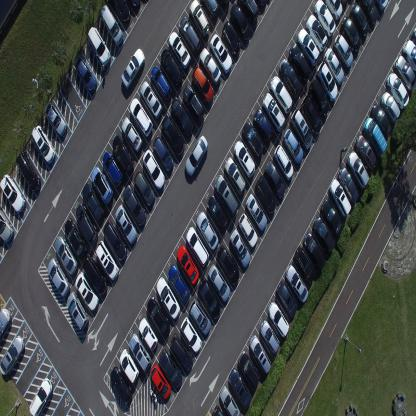car: (99, 2, 123, 48), (120, 46, 145, 90), (82, 254, 108, 296), (30, 124, 56, 165), (0, 173, 26, 214), (156, 276, 180, 320), (122, 183, 146, 227), (15, 150, 40, 192), (158, 348, 183, 390), (363, 116, 388, 158), (214, 174, 238, 217), (228, 367, 252, 410), (102, 219, 127, 260), (0, 335, 25, 376), (161, 112, 184, 156), (185, 133, 208, 177), (64, 217, 87, 261), (75, 270, 99, 312), (146, 296, 170, 338), (196, 209, 219, 252), (81, 180, 104, 223), (75, 202, 98, 245), (249, 334, 272, 377), (176, 243, 200, 284), (114, 203, 138, 244), (129, 96, 153, 137), (87, 25, 111, 66), (170, 96, 194, 137), (54, 235, 78, 276), (46, 257, 70, 298), (217, 243, 240, 285), (198, 276, 221, 318), (90, 164, 113, 206), (66, 290, 89, 332), (290, 108, 313, 150), (74, 53, 98, 93), (178, 16, 202, 56), (95, 240, 119, 280), (328, 178, 352, 218), (278, 58, 302, 98), (186, 225, 209, 266), (245, 192, 268, 233), (129, 332, 152, 373), (285, 264, 308, 305), (288, 42, 311, 83), (255, 173, 277, 215), (210, 32, 232, 74), (313, 214, 335, 256), (320, 198, 342, 240), (142, 148, 165, 188), (191, 63, 214, 103), (168, 263, 191, 303), (182, 84, 205, 124), (168, 30, 191, 70), (237, 349, 260, 389), (303, 231, 326, 271), (347, 150, 370, 190), (262, 92, 285, 132), (29, 378, 53, 416), (169, 333, 193, 371), (386, 71, 410, 109), (229, 2, 251, 43), (354, 133, 376, 174), (300, 94, 322, 135), (188, 297, 211, 336), (112, 134, 134, 174), (224, 155, 246, 195), (140, 79, 162, 119), (160, 48, 182, 88), (200, 46, 222, 86), (270, 75, 292, 115), (306, 13, 328, 53), (208, 263, 231, 301), (233, 140, 256, 178), (313, 0, 336, 38), (317, 61, 338, 102), (188, 0, 210, 39), (268, 301, 290, 340), (276, 280, 298, 319), (294, 245, 316, 284), (338, 166, 359, 206), (309, 78, 330, 118), (133, 169, 155, 207), (110, 366, 132, 404), (394, 54, 416, 92), (298, 27, 320, 65), (44, 100, 67, 136), (241, 122, 264, 158), (152, 135, 174, 172), (206, 193, 228, 230), (180, 316, 202, 353), (150, 64, 172, 101), (118, 348, 140, 385), (370, 103, 392, 140), (230, 226, 250, 266), (324, 46, 344, 86), (150, 363, 171, 401), (265, 160, 286, 198), (283, 127, 304, 165), (120, 116, 142, 152), (341, 15, 362, 52), (102, 150, 122, 188), (260, 318, 280, 356), (238, 212, 258, 249), (274, 144, 294, 181), (138, 317, 158, 353), (380, 90, 400, 126), (333, 34, 353, 70), (350, 1, 370, 37), (253, 107, 273, 142), (219, 385, 240, 415), (222, 21, 240, 55), (237, 0, 260, 26), (0, 208, 15, 244), (402, 38, 416, 74), (359, 0, 378, 26), (110, 0, 130, 23), (199, 0, 219, 20), (324, 0, 342, 20), (0, 308, 11, 340), (375, 0, 389, 13), (211, 404, 225, 415), (126, 0, 140, 9), (410, 25, 416, 46), (254, 0, 267, 9)
